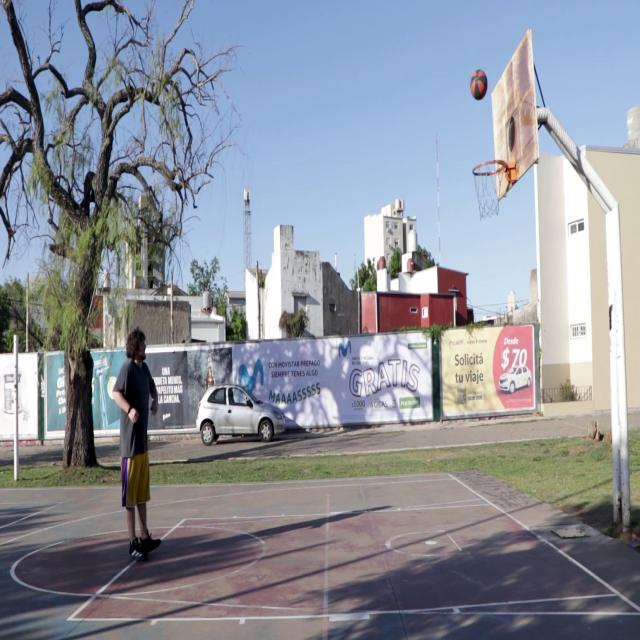ball: (470, 69, 489, 101)
